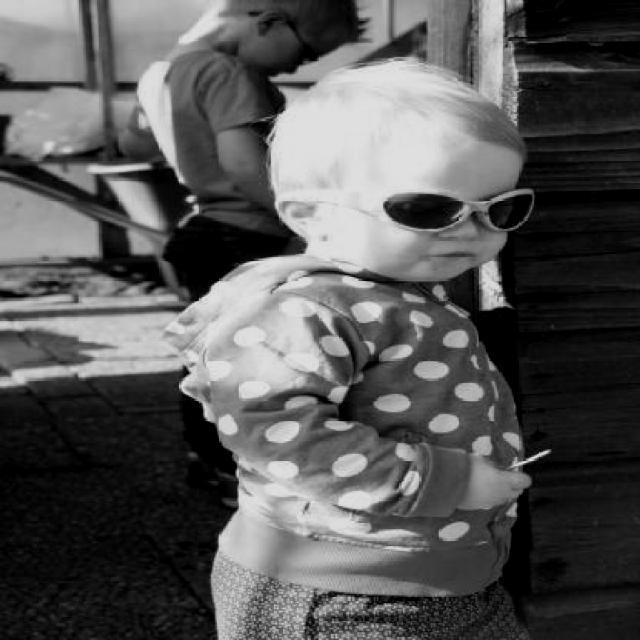face_nomask: (257, 33, 331, 82)
glasses: (291, 151, 523, 227)
hand_noglove: (455, 452, 536, 522)
head_nohelmet: (299, 59, 524, 138)
person: (203, 80, 549, 640), (142, 0, 358, 302)
